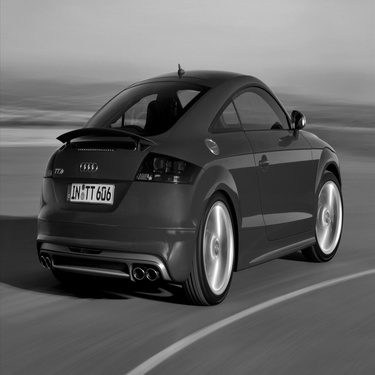car: (15, 59, 360, 302)
